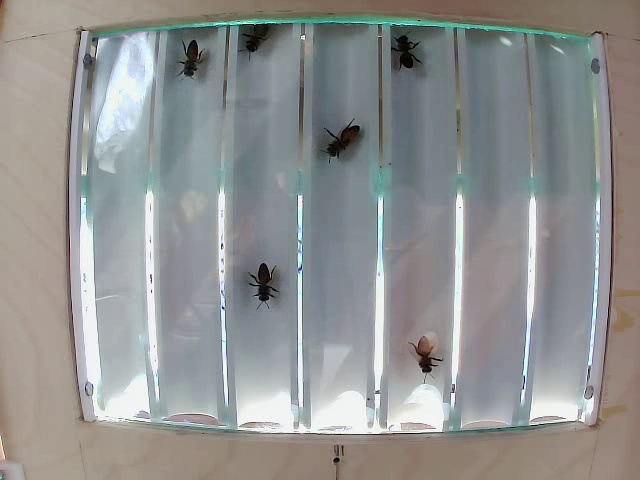bee: (318, 119, 370, 169), (384, 34, 437, 81), (179, 36, 221, 82), (404, 332, 443, 380), (246, 263, 285, 309)
